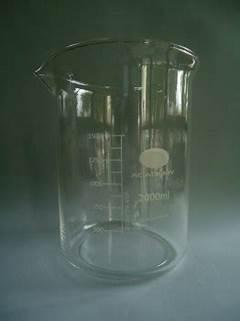Beaker: (35, 38, 198, 282)
